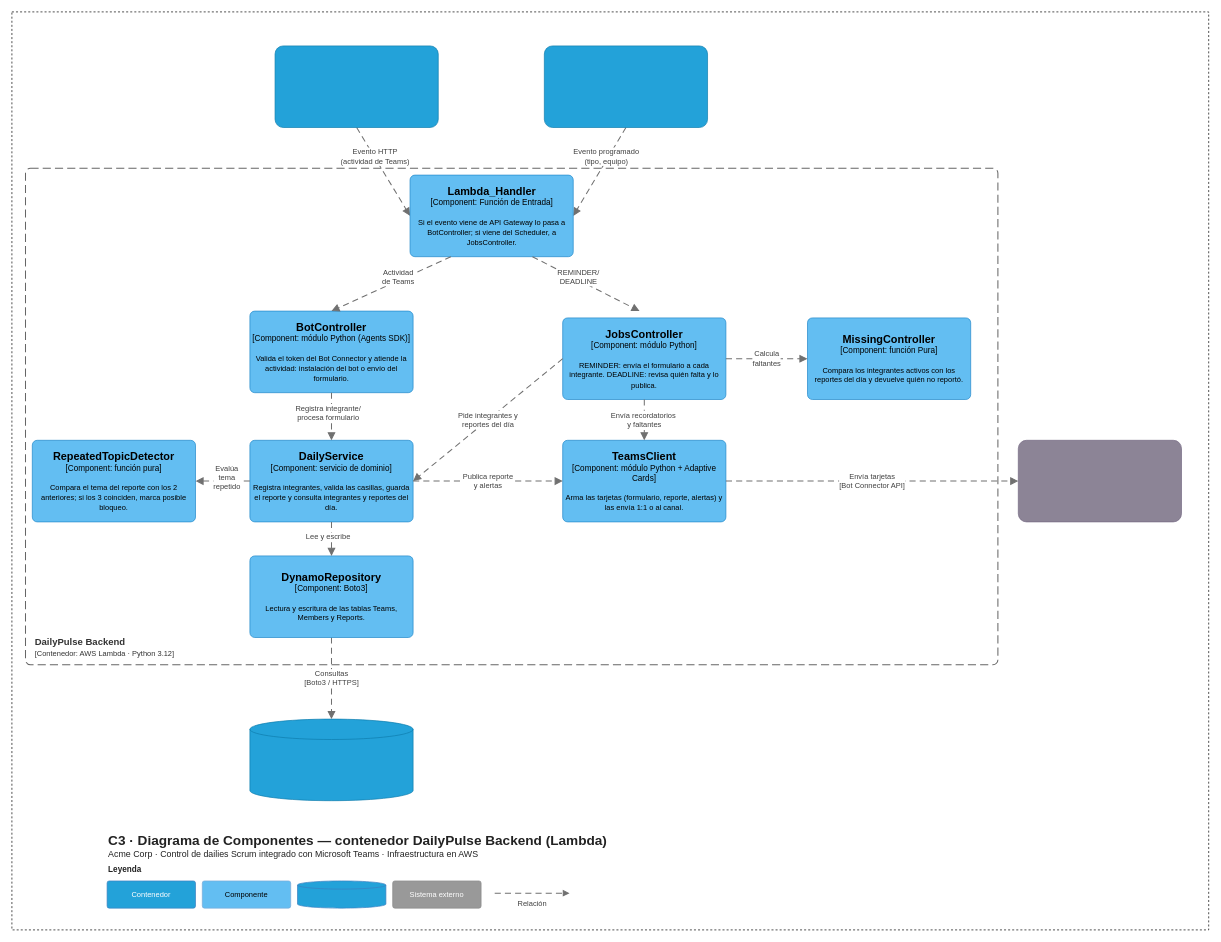
Some shapes in this 1221 by 942 pixel diagram are drawn without their labels. The centre of each missing label's shape, as x and y in pixels:
"API Gateway [Container: Amazon API Gateway]" belongs at pixel 356 86.
"Base de datos" belongs at pixel 341 894.
"Base de Datos [Container: Amazon DynamoDB]" belongs at pixel 331 759.
"Microsoft Teams [Sistema Externo]" belongs at pixel 1100 481.
"Scheduler [Container: Amazon EvenBridge Scheduler]" belongs at pixel 626 86.
